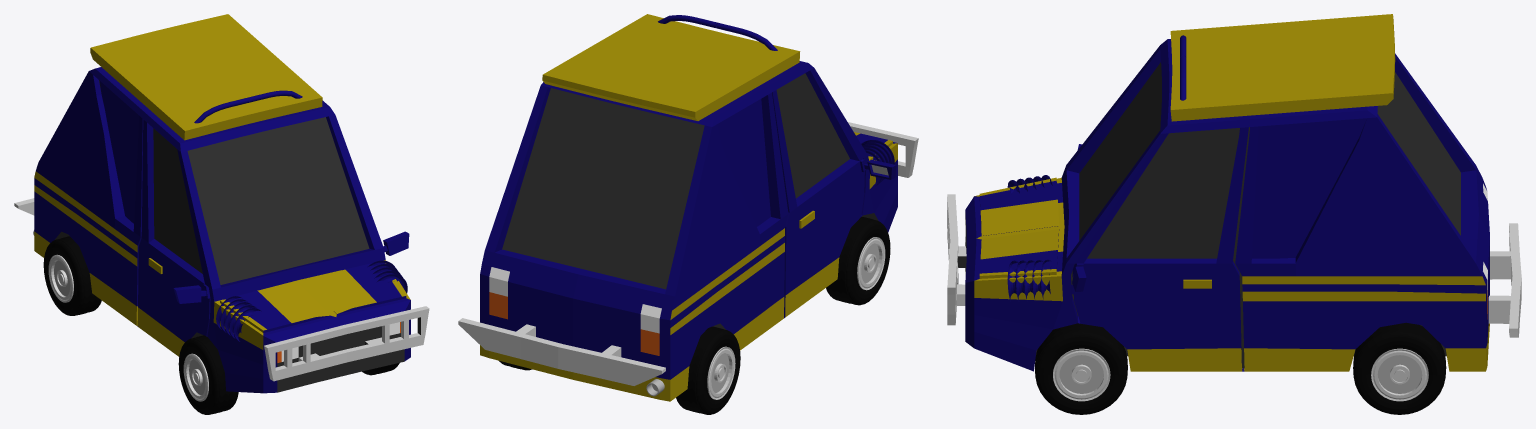
Rendered from CR-car-16A.fbx.
3 views of the same model, side by side, from view 1: azimuth 30°, elevation 25°; view 2: azimuth 150°, elevation 25°; view 3: azimuth 270°, elevation 25° (orthographic). The views are drawn at different scales.
Parts seen in each view (by area): view 1: BODY, WHEEL.001, WHEEL.004; view 2: BODY, WHEEL.004, WHEEL.001; view 3: BODY, WHEEL.002, WHEEL.003.
Part boxes in pixels (box(x1,y1,x2,y2)): BODY: box(14, 14, 429, 393); WHEEL.001: box(178, 335, 238, 414); WHEEL.004: box(43, 236, 101, 315); BODY: box(458, 14, 918, 401); WHEEL.004: box(676, 326, 740, 414); WHEEL.001: box(826, 216, 890, 305); BODY: box(947, 14, 1521, 371); WHEEL.002: box(1353, 322, 1446, 414); WHEEL.003: box(1035, 323, 1127, 414).
Bounding box in the file's own units: 133 × 144 × 241.
